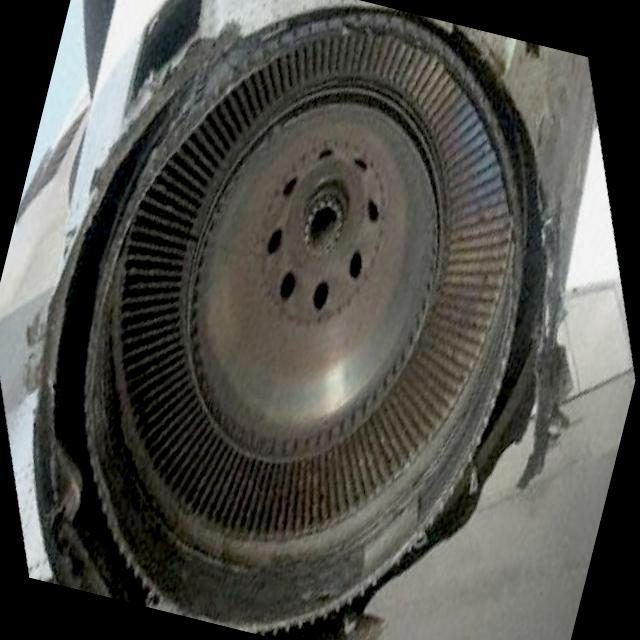crack: (470, 182, 625, 557)
